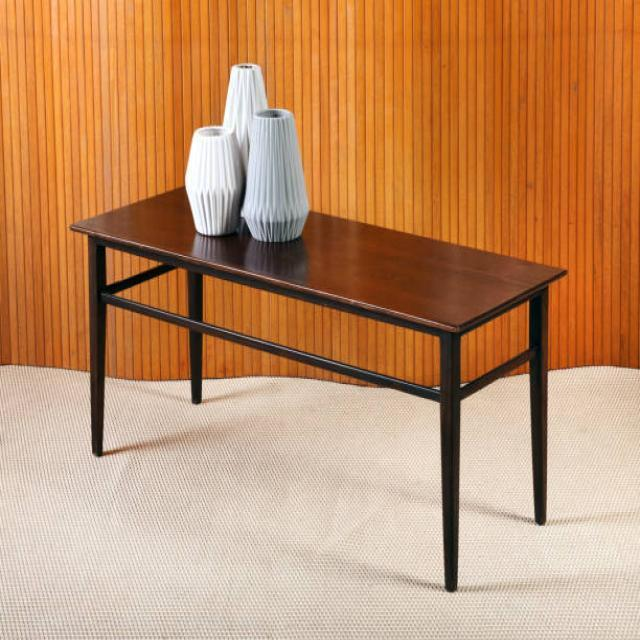table: (67, 181, 568, 592)
